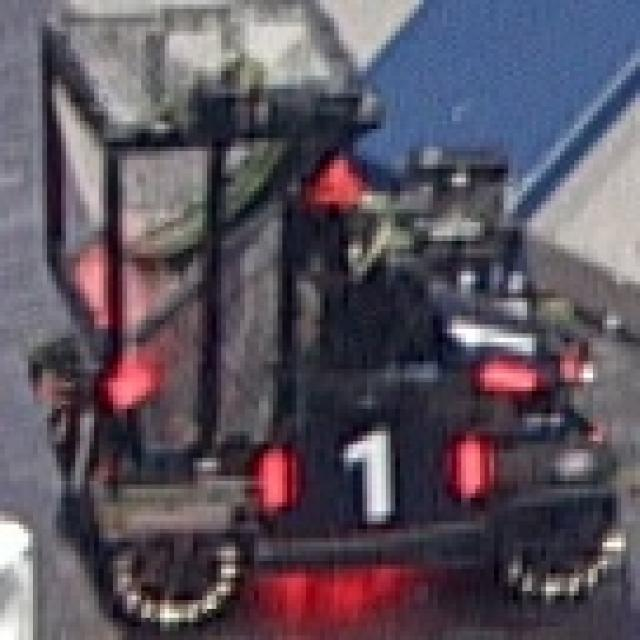R1: (254, 422, 485, 520)
